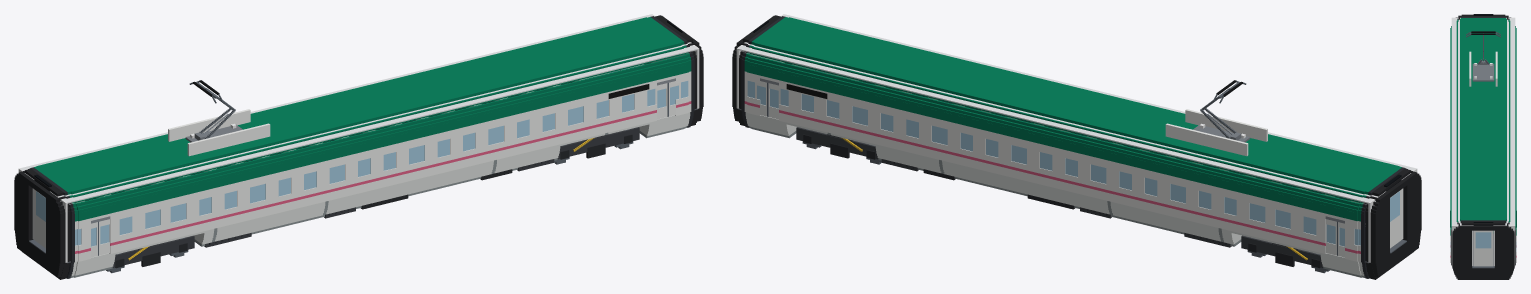
File: e5_car.obj
3 views of the same model, side by side, from view 1: azimuth 30°, elevation 25°; view 2: azimuth 150°, elevation 25°; view 3: azimuth 270°, elevation 25° (orthographic). The views are drawn at different scales.
Visible parts, largest first — view 1: SHELL, SHELL_ceiling, SHELL_diaphragm, SHELL_pantograph, BOGEY_FRONT, BOGEY_REAR, FRAME, SHELL_end, CONNECTING_DOOR_1_CG_CR_TOGGLE_TL_0.98_Z, EXTERNAL_DOOR_10_CG_DR2_TOGGLE_TL_-0.44_X, SHELL_seatback; view 2: SHELL, SHELL_ceiling, SHELL_diaphragm, SHELL_pantograph, BOGEY_FRONT, BOGEY_REAR, FRAME, SHELL_end, CONNECTING_DOOR_1_CG_CR_TOGGLE_TL_0.98_Z, EXTERNAL_DOOR_13_CG_DL2_TOGGLE_TL_-0.44_X; view 3: SHELL, SHELL_ceiling, SHELL_diaphragm, SHELL_pantograph, CONNECTING_DOOR_2_CG_CF_TOGGLE_TL_0.98_Z, SHELL_end, SHELL_floor.
Boxes of the visible parts, left/top/right/bottom form: SHELL: left=22, top=15, right=699, bottom=279; SHELL_ceiling: left=20, top=14, right=697, bottom=203; SHELL_diaphragm: left=14, top=16, right=703, bottom=277; SHELL_pantograph: left=168, top=80, right=270, bottom=156; BOGEY_FRONT: left=557, top=127, right=639, bottom=159; BOGEY_REAR: left=112, top=235, right=194, bottom=268; FRAME: left=204, top=159, right=554, bottom=247; SHELL_end: left=18, top=14, right=699, bottom=262; CONNECTING_DOOR_1_CG_CR_TOGGLE_TL_0.98_Z: left=34, top=190, right=45, bottom=248; EXTERNAL_DOOR_10_CG_DR2_TOGGLE_TL_-0.44_X: left=655, top=83, right=668, bottom=119; SHELL_seatback: left=85, top=79, right=582, bottom=200; SHELL: left=736, top=15, right=1413, bottom=279; SHELL_ceiling: left=738, top=14, right=1415, bottom=203; SHELL_diaphragm: left=732, top=16, right=1421, bottom=277; SHELL_pantograph: left=1165, top=80, right=1267, bottom=156; BOGEY_FRONT: left=796, top=127, right=878, bottom=159; BOGEY_REAR: left=1241, top=235, right=1323, bottom=268; FRAME: left=881, top=159, right=1231, bottom=247; SHELL_end: left=736, top=14, right=1417, bottom=262; CONNECTING_DOOR_1_CG_CR_TOGGLE_TL_0.98_Z: left=1390, top=190, right=1401, bottom=248; EXTERNAL_DOOR_13_CG_DL2_TOGGLE_TL_-0.44_X: left=767, top=83, right=780, bottom=119; SHELL: left=1450, top=14, right=1516, bottom=279; SHELL_ceiling: left=1451, top=18, right=1515, bottom=225; SHELL_diaphragm: left=1452, top=15, right=1514, bottom=278; SHELL_pantograph: left=1466, top=31, right=1500, bottom=86; CONNECTING_DOOR_2_CG_CF_TOGGLE_TL_0.98_Z: left=1473, top=230, right=1493, bottom=266; SHELL_end: left=1451, top=14, right=1515, bottom=265; SHELL_floor: left=1473, top=231, right=1493, bottom=264.
Bounding box in the file's own units: 25.32 × 5.68 × 3.37.
Materials: 1 (1 with a texture image).
